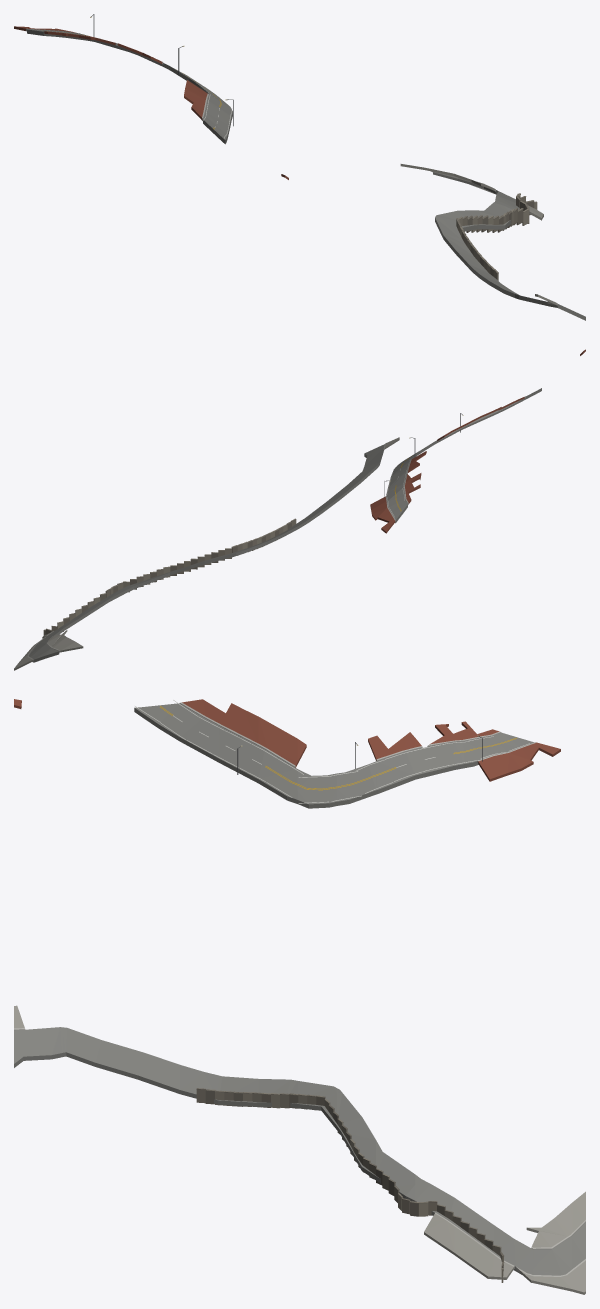
3 renders of one model, top to bottom at view 1: azimuth 30°, elevation 25°; view 2: azimuth 150°, elevation 25°; view 3: azimuth 270°, elevation 25°, orthographic. The views are drawn at different scales.
Size of the model in its own units: 148 by 99.25 by 146.
